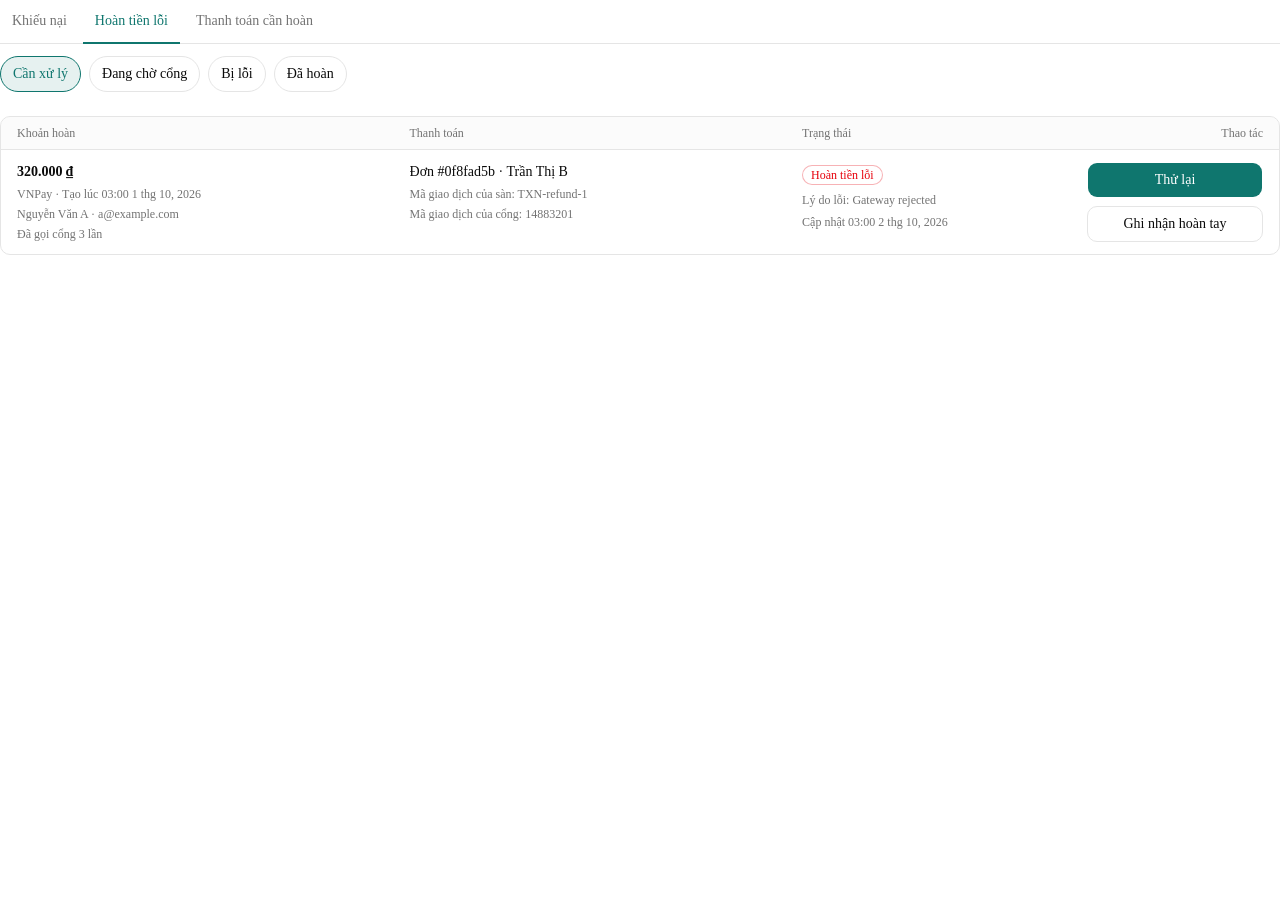
Test: AdminRefundsContainer — tab Hoàn tiền lỗi › "Quay lại" ở hộp thoại thử lại KHÔNG gọi API
Click the button "Thử lại".
click(1175, 180)  # box [1087,162,1263,198]
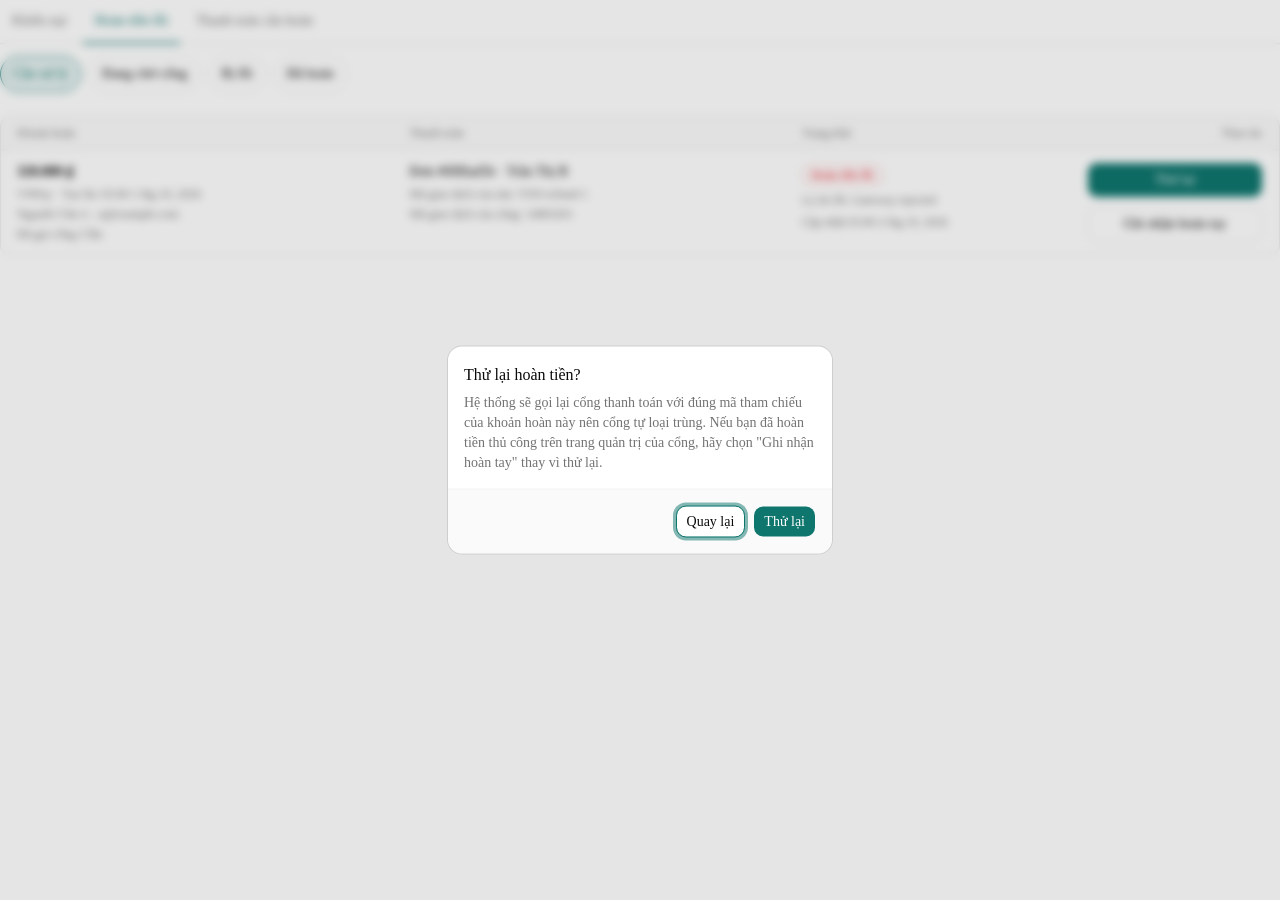
Click the button "Quay lại".
click(710, 522)  # box [676,506,745,538]
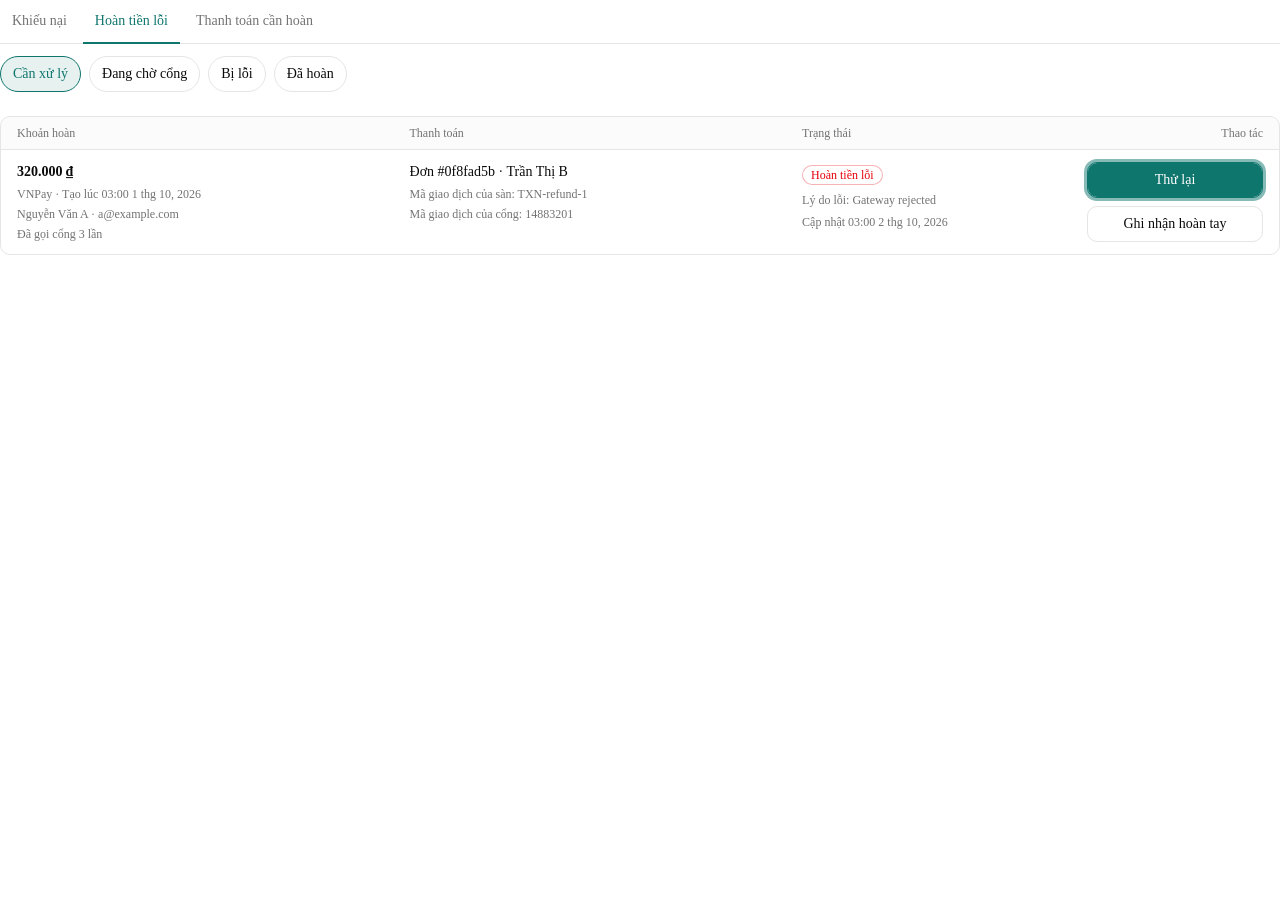
Result: the dialog is gone
